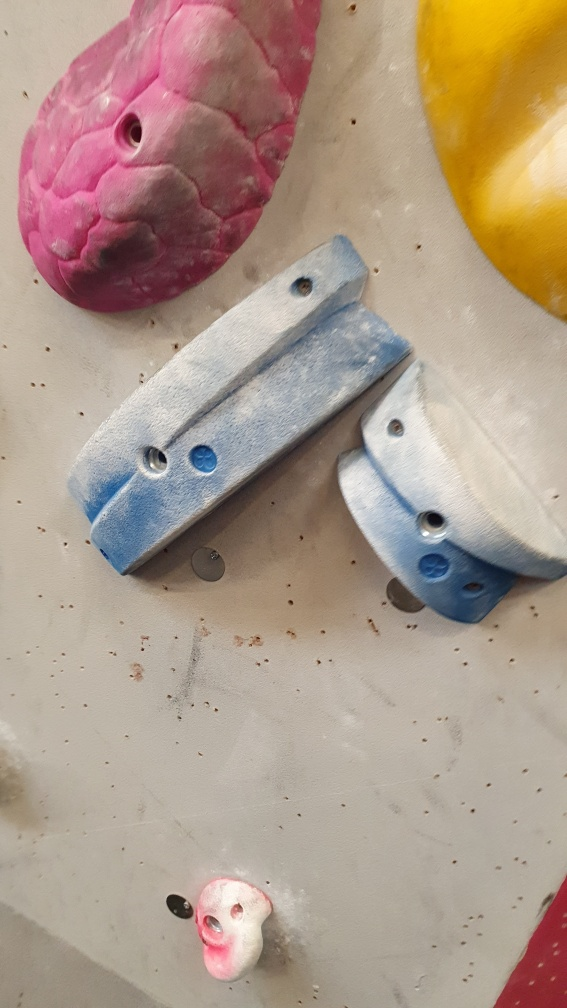Hand Start: (382, 575, 428, 619), (191, 543, 230, 585), (163, 894, 194, 924)
Jug: (195, 878, 275, 982)
Pinch: (76, 233, 413, 577), (337, 357, 563, 628)
